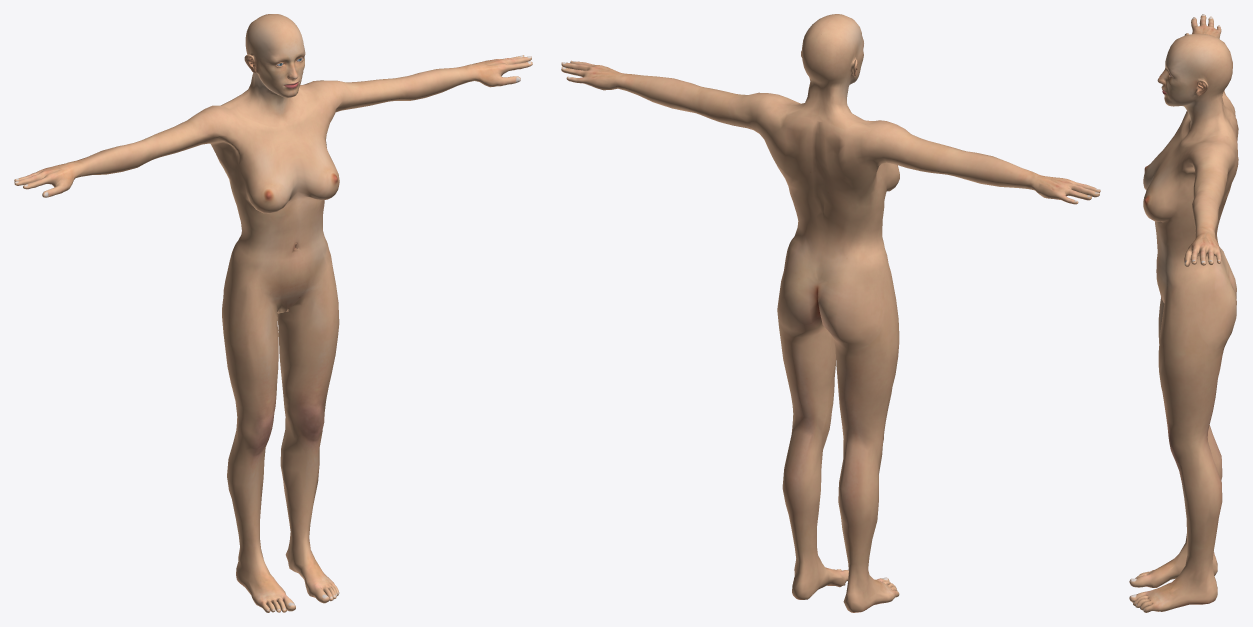
File: woman.obj
3 renders of one model, left to right at view 1: azimuth 30°, elevation 25°; view 2: azimuth 150°, elevation 25°; view 3: azimuth 270°, elevation 25°, orthographic. The views are drawn at different scales.
Bounding box in the file's own units: 15.46 × 16.21 × 2.87.
Materials: 1 (1 with a texture image).
